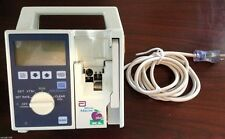plumxl1: (5, 5, 125, 129)
